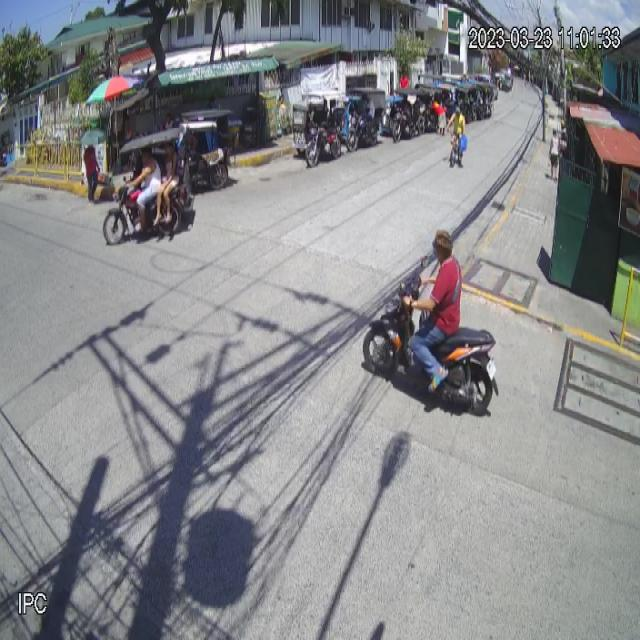Motorcycle: (361, 252, 501, 420)
Tricycle: (102, 126, 197, 246)
